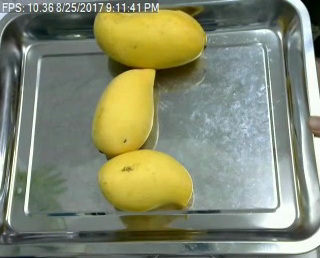Mango: (91, 4, 209, 70), (96, 147, 196, 215), (88, 68, 159, 156)
